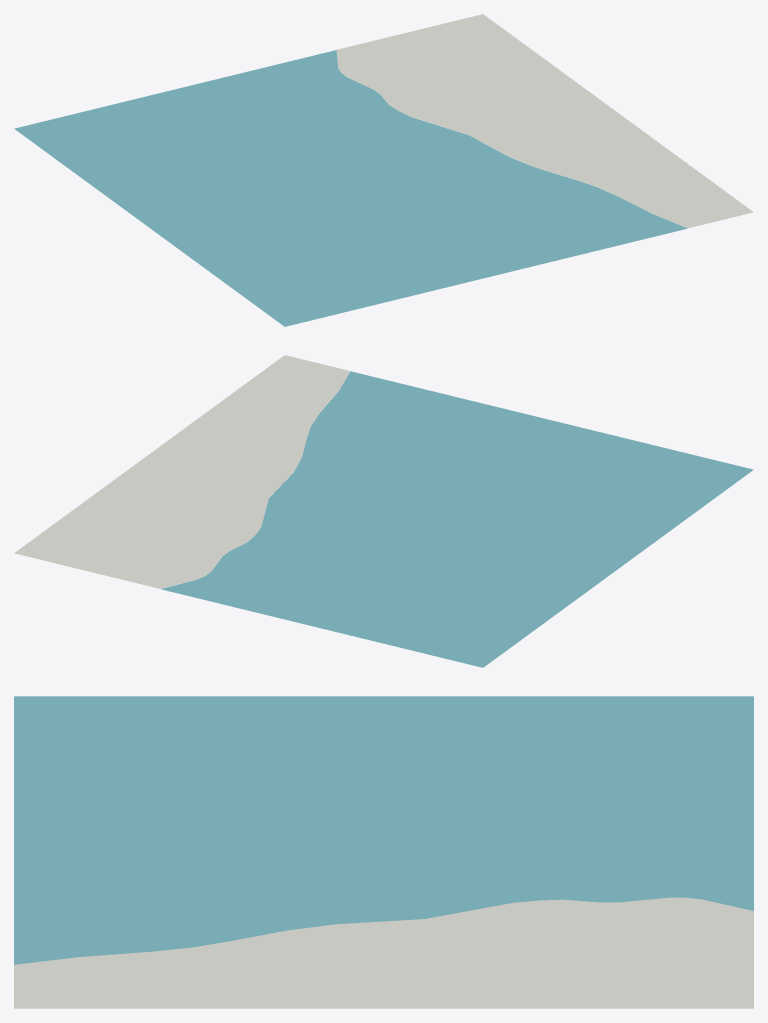
3 renders of one model, top to bottom at view 1: azimuth 30°, elevation 25°; view 2: azimuth 150°, elevation 25°; view 3: azimuth 270°, elevation 25°, orthographic. The views are drawn at different scales.
Visible parts, largest first — view 1: city; view 2: city; view 3: city.
Part boxes in pixels (x1,y1,x2,y2): city: [14, 14, 753, 326]; city: [14, 355, 753, 667]; city: [14, 696, 753, 1008].
Size of the model in its own units: 500 by 0.18 by 500.
